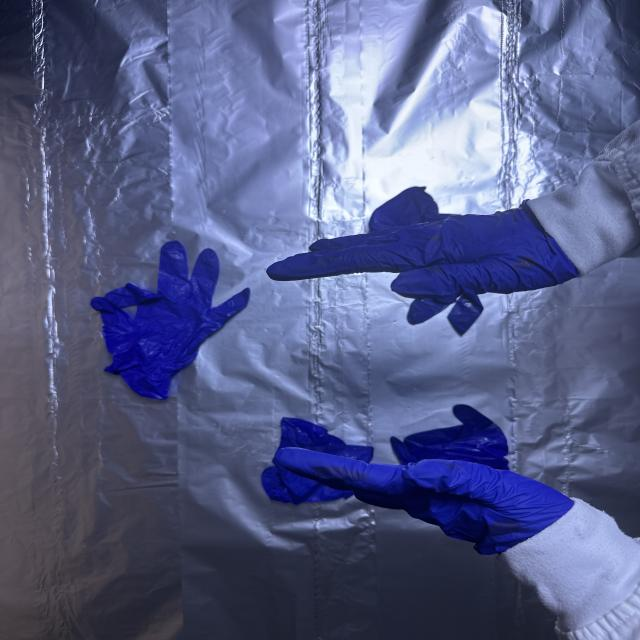gloves_contaminated: (268, 208, 578, 324), (276, 449, 573, 554)
